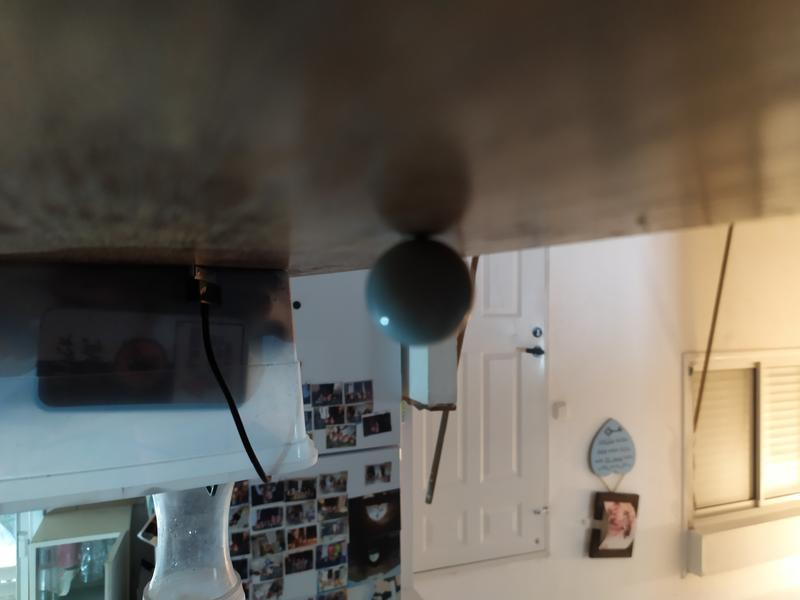Warning: (360, 234, 477, 349)
